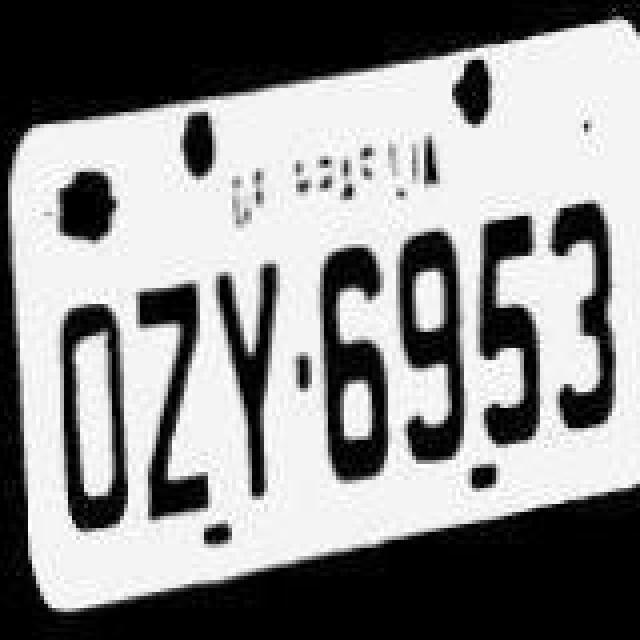3: (544, 186, 620, 446)
5: (466, 196, 546, 464)
6: (314, 224, 386, 484)
9: (398, 222, 462, 478)
O: (58, 296, 138, 544)
Y: (216, 256, 284, 508)
Z: (128, 276, 212, 508)
